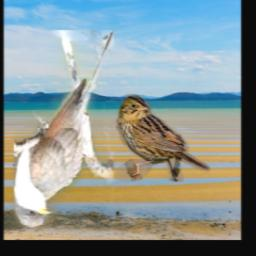Cuckoo: (14, 30, 114, 228)
Sparrow: (117, 95, 211, 183)
